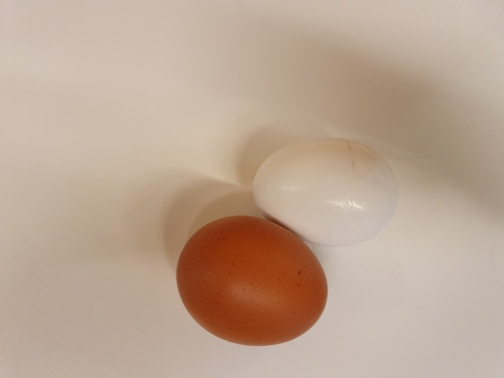egg: (176, 215, 328, 349), (253, 135, 395, 252)
